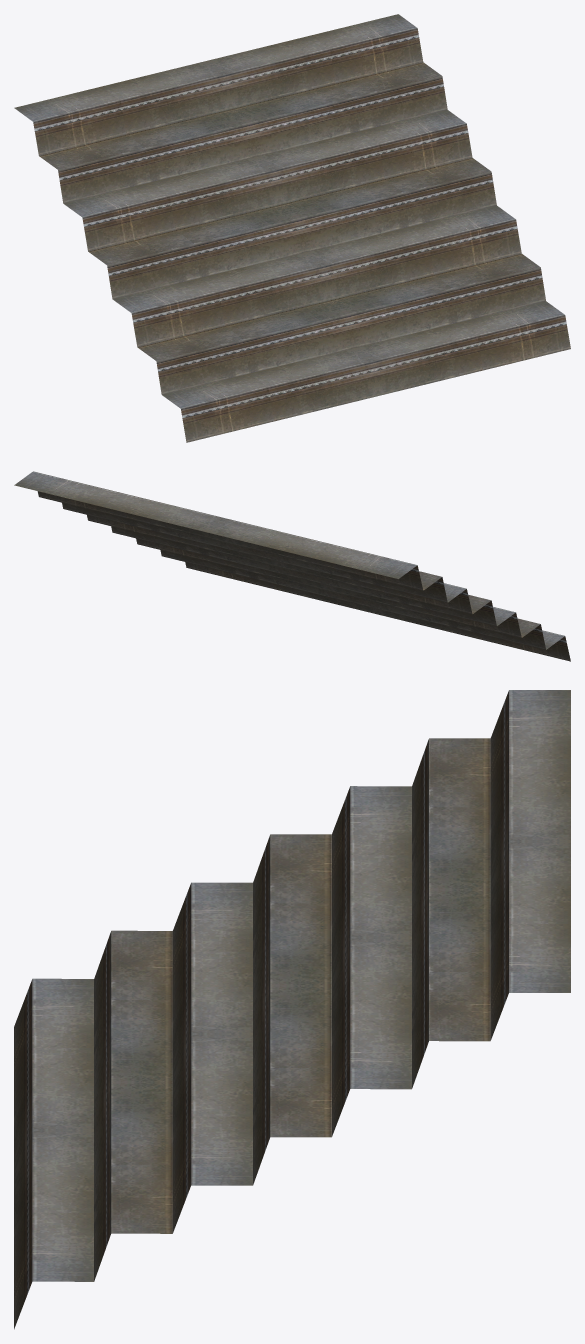
The model's file is dcfx2_louti_02.FBX.
The picture shows the model from 3 angles, top to bottom: view 1: azimuth 30°, elevation 25°; view 2: azimuth 150°, elevation 25°; view 3: azimuth 270°, elevation 25°; orthographic projection. The views are drawn at different scales.
Visible parts, largest first — view 1: dcfx2_louti_02; view 2: dcfx2_louti_02; view 3: dcfx2_louti_02.
Boxes of the visible parts, x1,y1,x2,y2 form: dcfx2_louti_02: (14, 14, 570, 442); dcfx2_louti_02: (14, 471, 570, 661); dcfx2_louti_02: (14, 690, 570, 1329).
Size of the model in its own units: 591 by 307 by 459.
